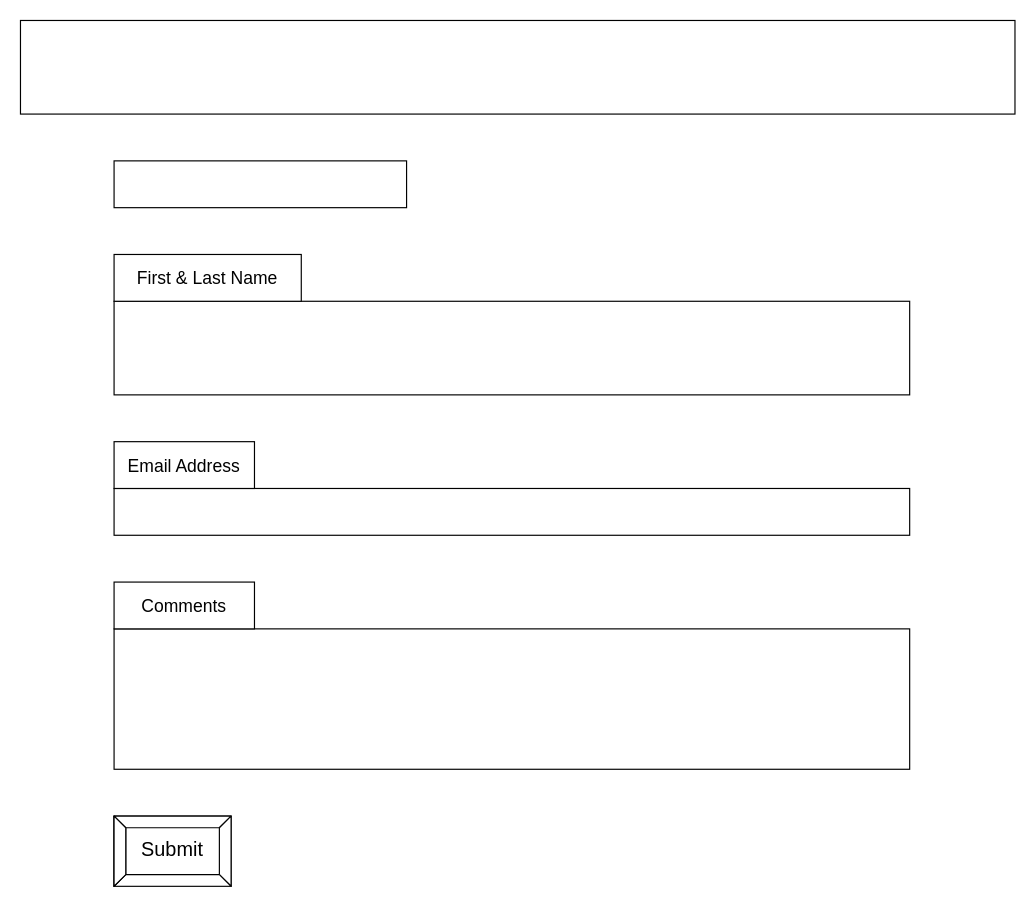
Image size: 1035x907. Some labels were removed from this diagram. The shapes that lost their labels are listed below. From the top down, each one's centre as x and y in pixels, then its label:
At (x=517, y=66): "Navigation Bar".
At (x=260, y=184): "Contact Form".
